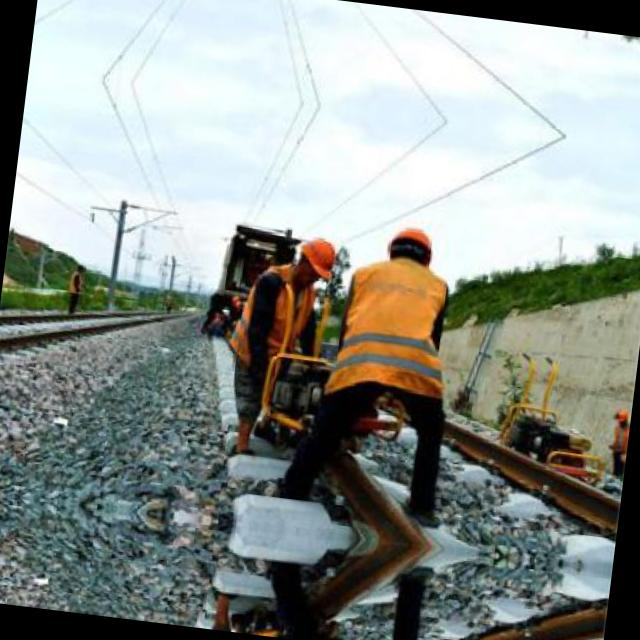helmet: (380, 217, 436, 274), (290, 228, 344, 284)
